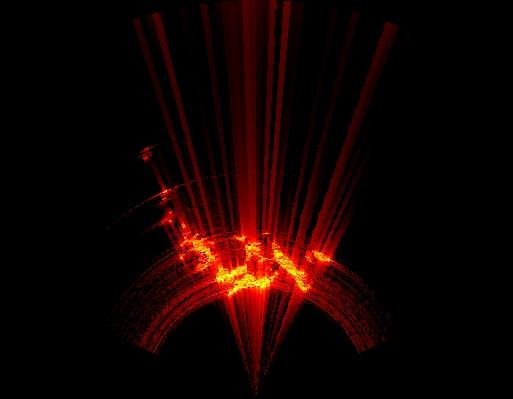shipwreck: (180, 230, 310, 295), (307, 250, 331, 260)
